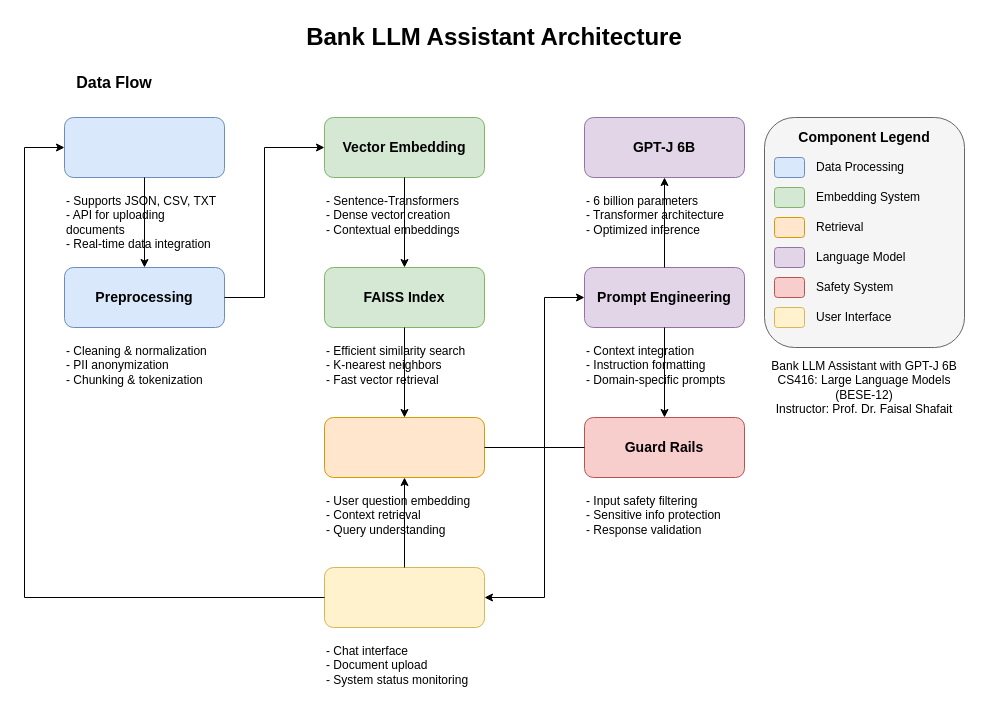
The diagram is 982 pixels wide and 714 high, and some of its shapes have lost their labels. Each missing label, with the box of its shape:
Data Ingestion: (64, 116, 224, 178)
Query Processing: (324, 416, 484, 478)
Streamlit UI: (324, 566, 484, 628)
